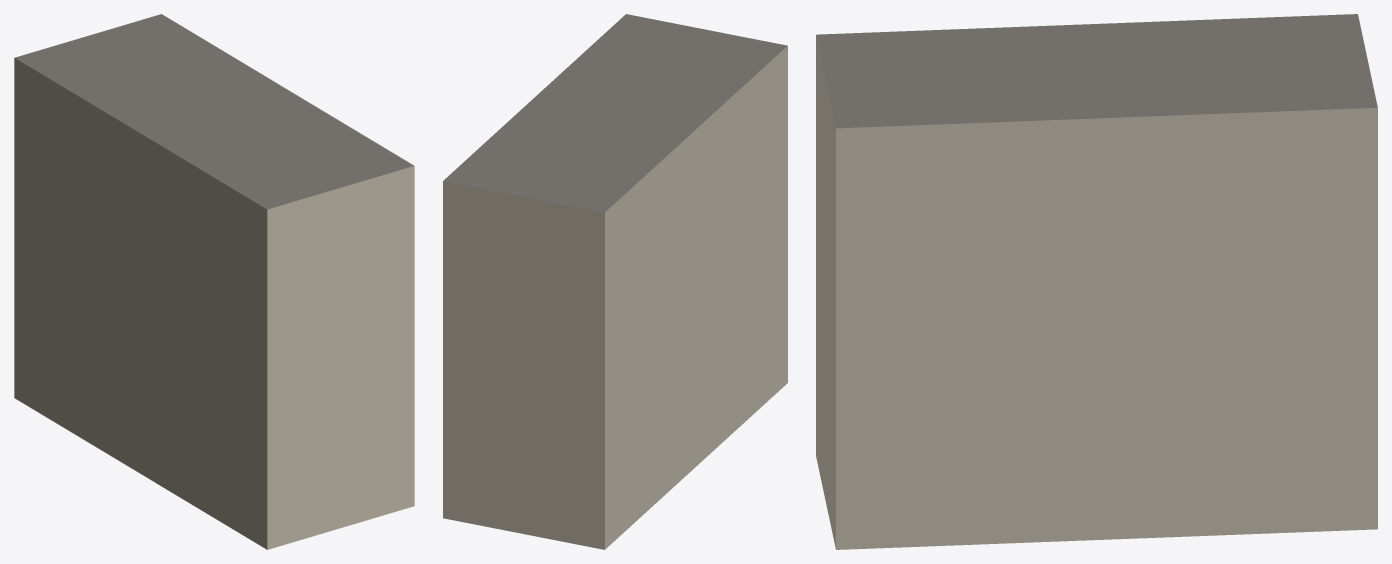
3 renders of one model, left to right at view 1: azimuth 30°, elevation 25°; view 2: azimuth 150°, elevation 25°; view 3: azimuth 270°, elevation 25°, orthographic. The views are drawn at different scales.
Parts seen in each view (by area): view 1: HP-w1424106466; view 2: HP-w1424106466; view 3: HP-w1424106466.
Part boxes in pixels (box(x1,y1,x2,y2)): HP-w1424106466: box(14, 14, 414, 549); HP-w1424106466: box(443, 14, 787, 549); HP-w1424106466: box(816, 14, 1377, 549).
Size of the model in its own units: 8.73 by 15 by 18.12.
